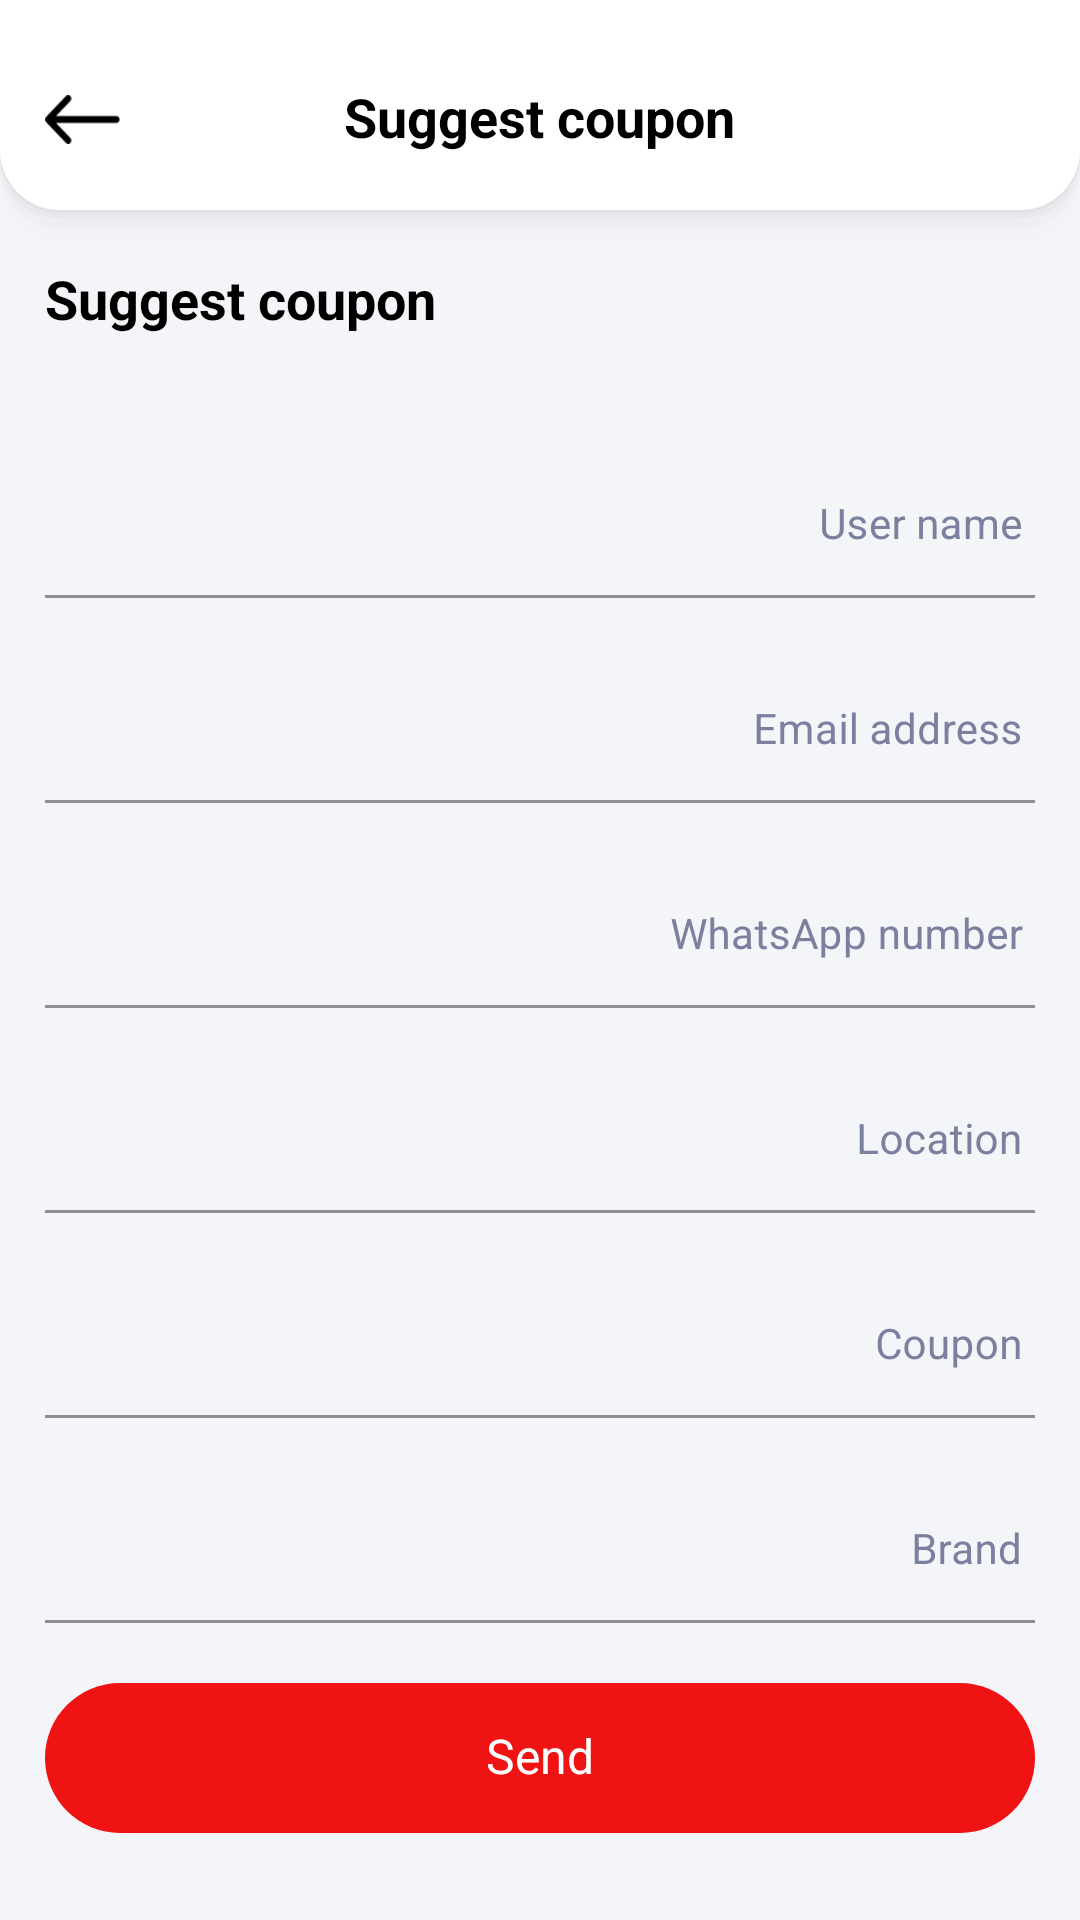

Point at icon controls on the screen. Image size 1080x1920, points as point (x, y).
back: point (82, 119)
